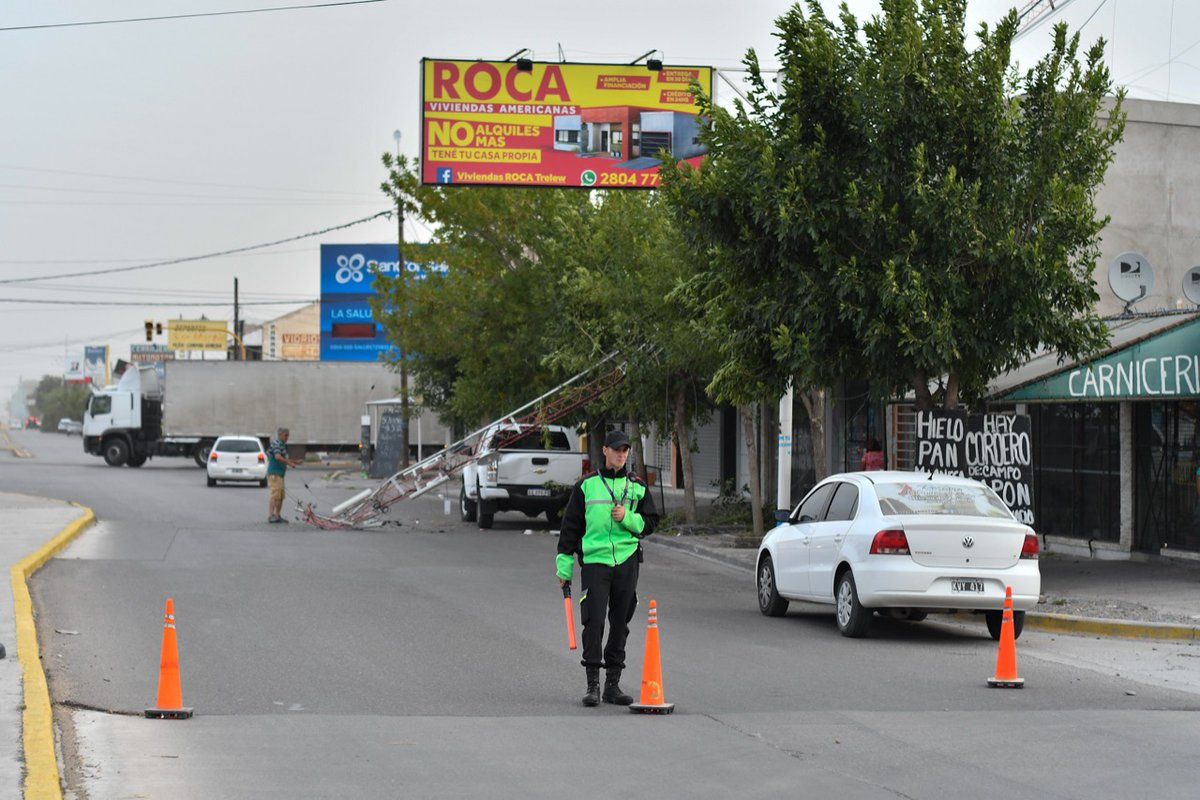Arbol: (719, 7, 1097, 395), (408, 161, 716, 432)
Cartel: (418, 55, 708, 186)
Persona: (548, 430, 651, 711)
Vehiculo: (759, 441, 1045, 646)
